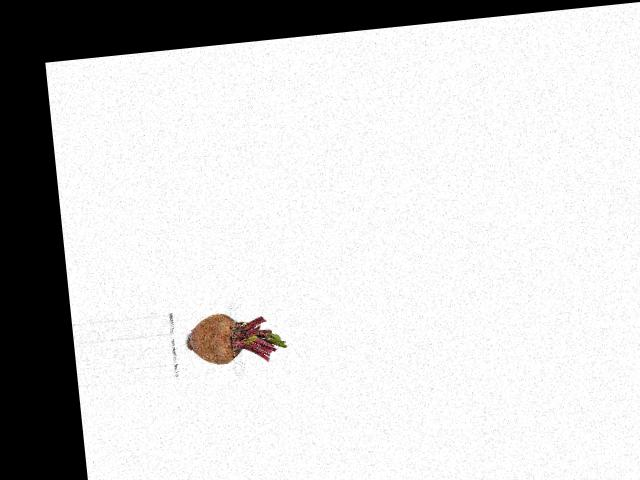beet: (184, 306, 287, 368)
